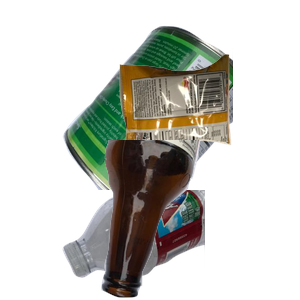glass: (99, 140, 300, 300)
metal: (60, 23, 300, 203)
plastic: (60, 190, 300, 280)
trash: (117, 52, 300, 193)
